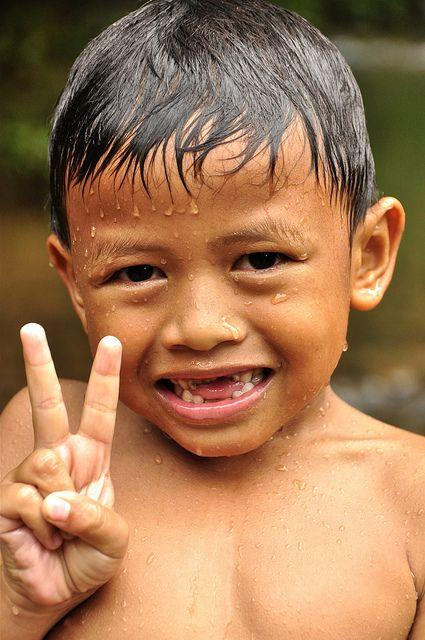peace_sign: (3, 321, 140, 613)
